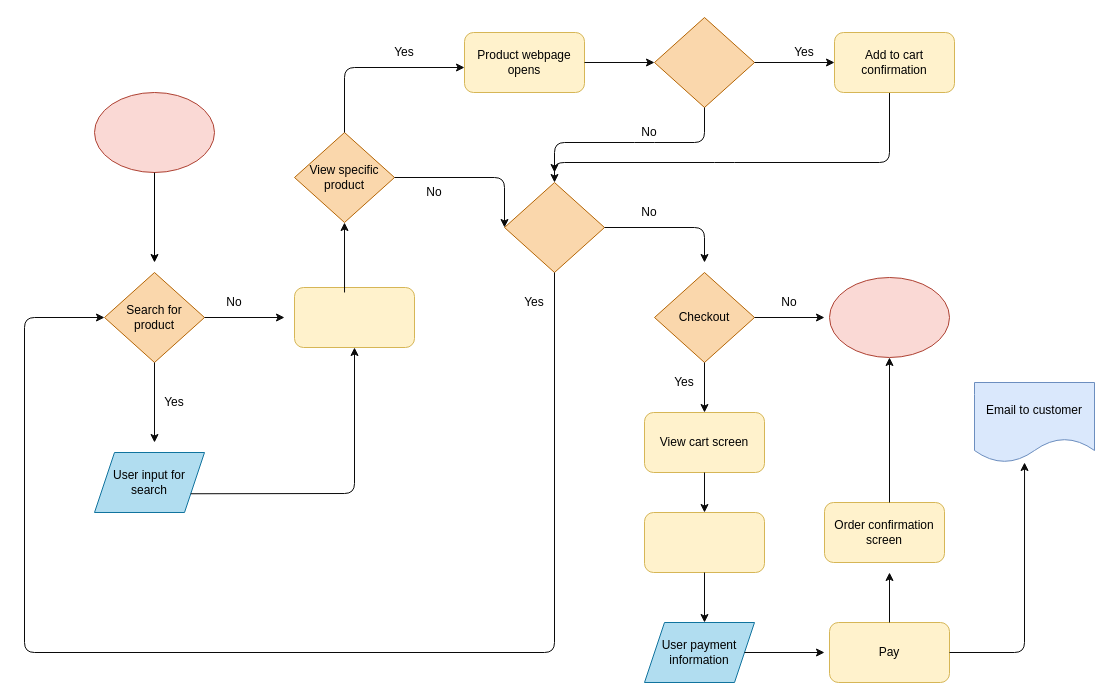
Image size: 1112x700. Some labels were removed from this diagram. Here are the shapes that lost their labels. From the top down, the centre of each, then its label:
[704,62]: Add to cart
[154,132]: Enter Website
[554,227]: Continue shopping
[354,317]: Look over products
[889,317]: Leave Website
[704,542]: View payment screen
